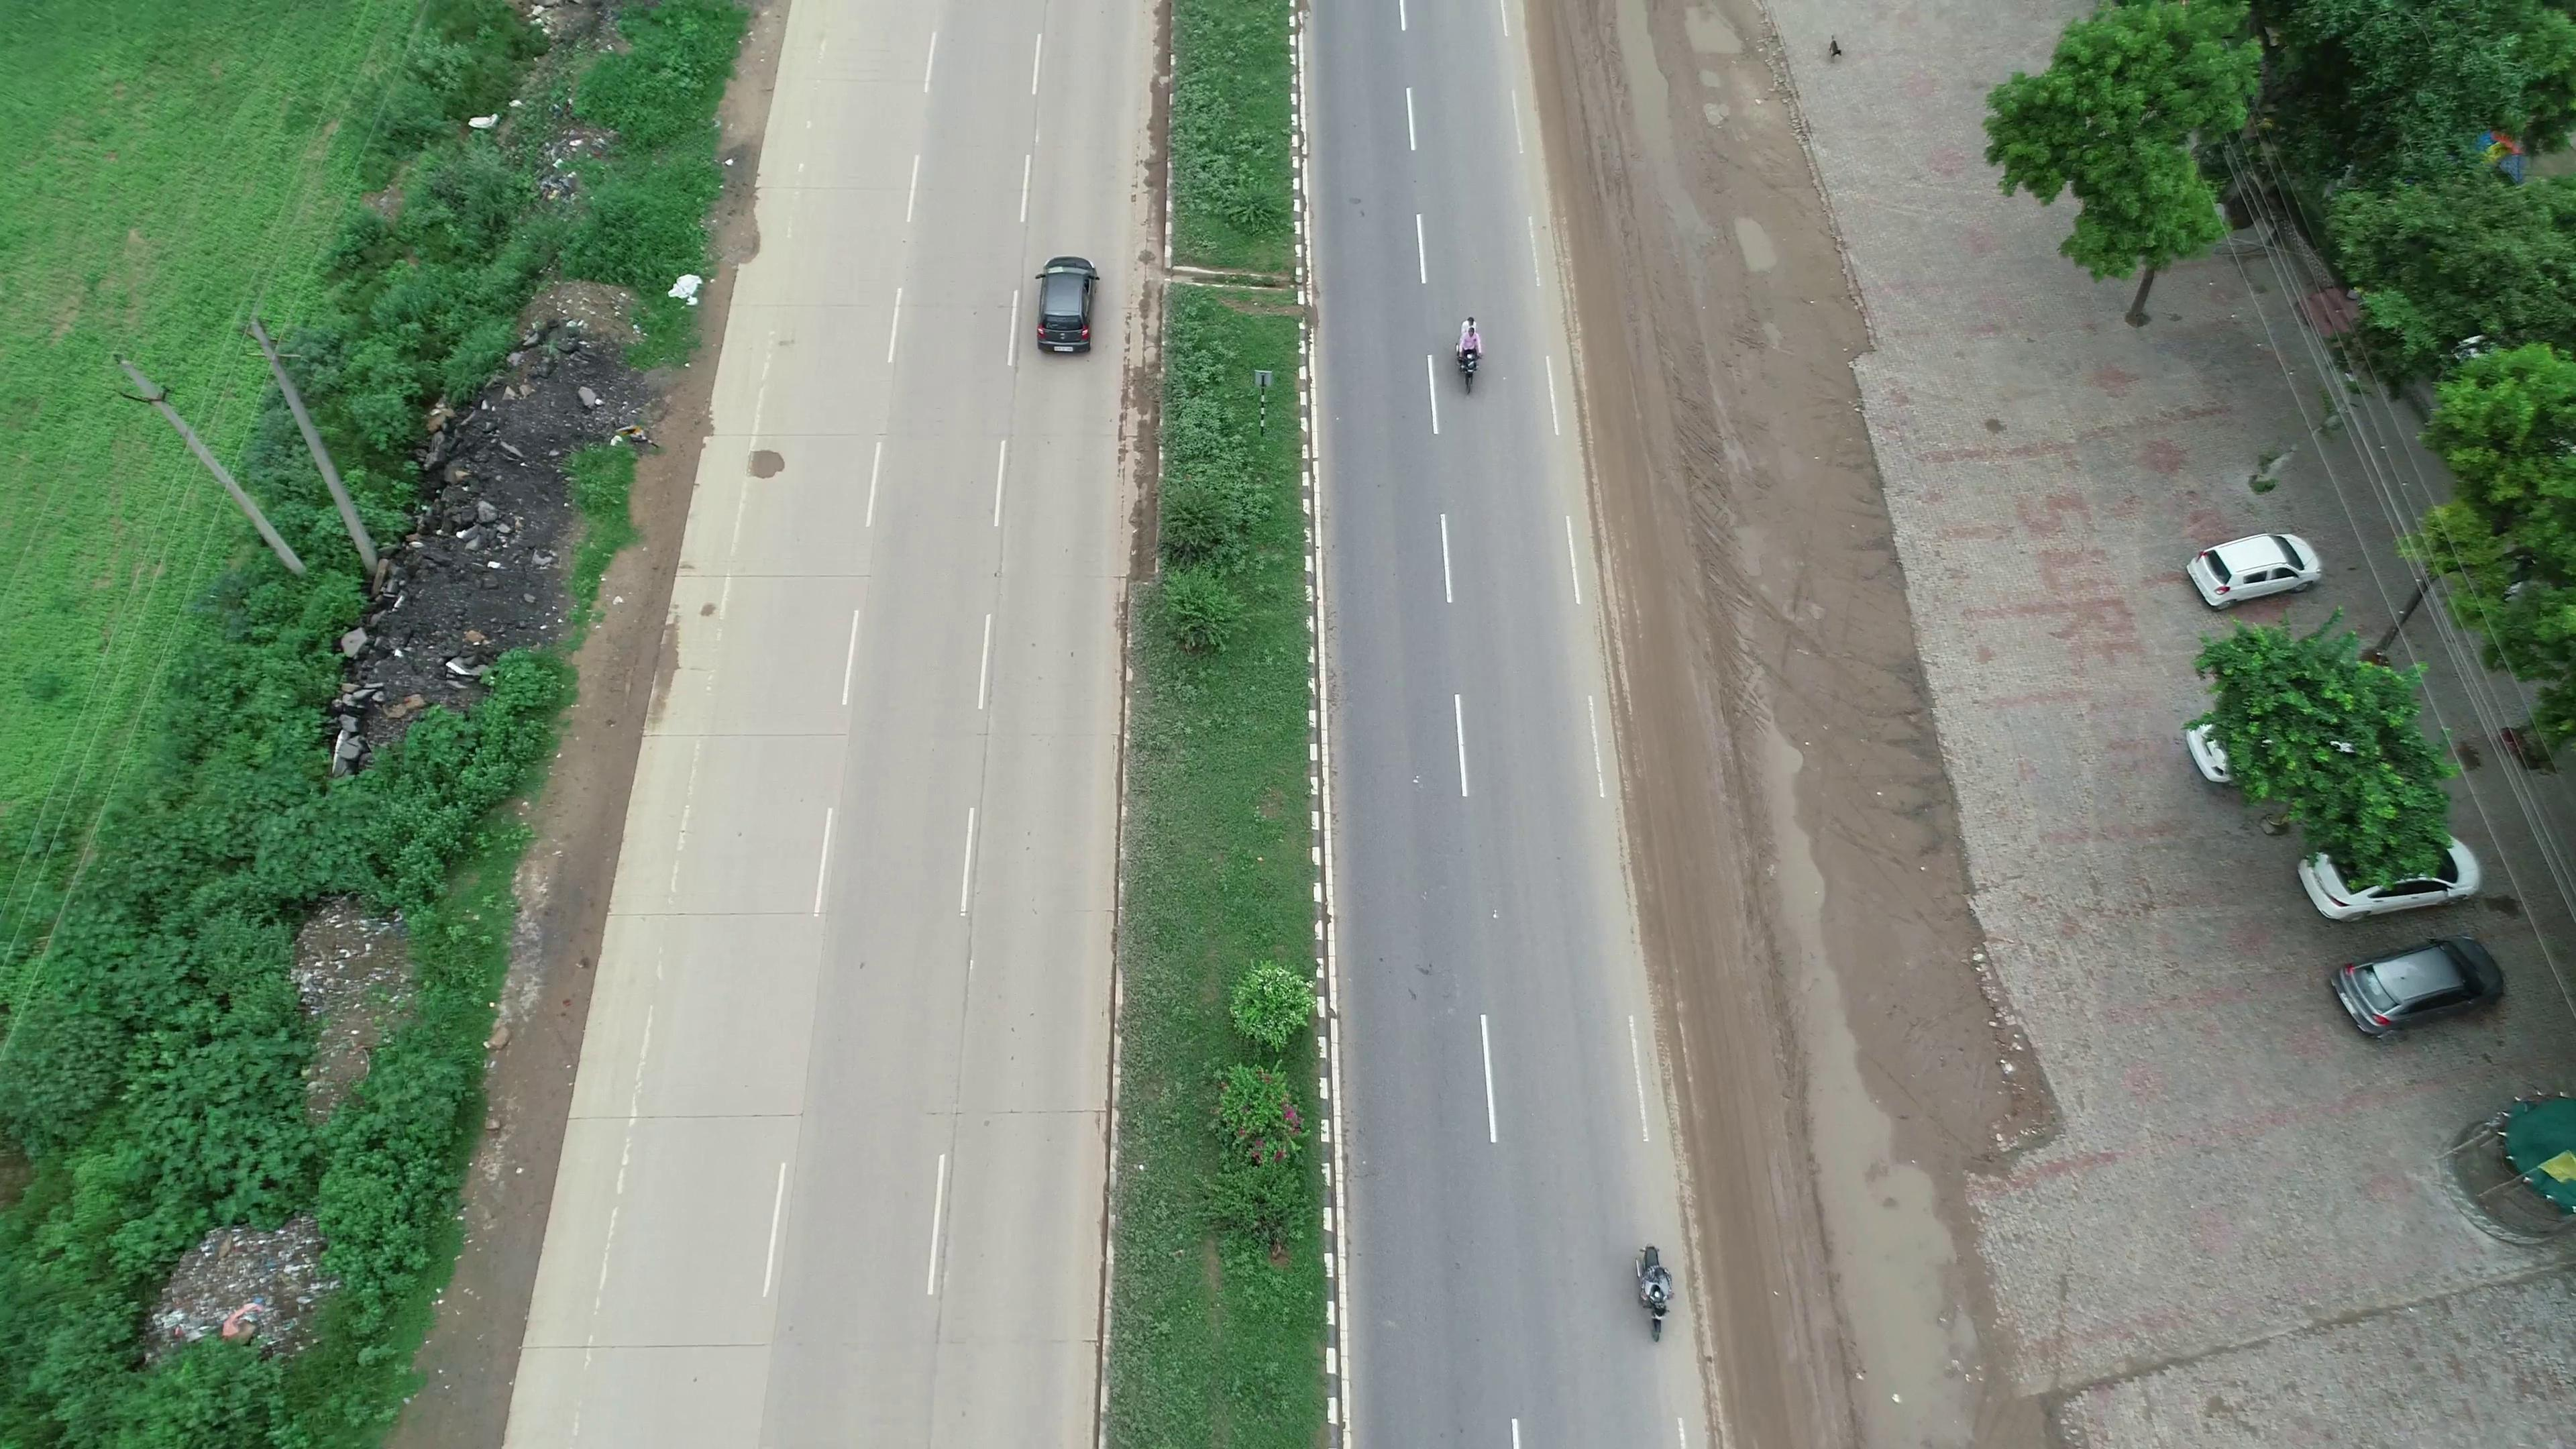Muddy_road: (1529, 180, 1706, 692), (1615, 736, 1787, 1251)
